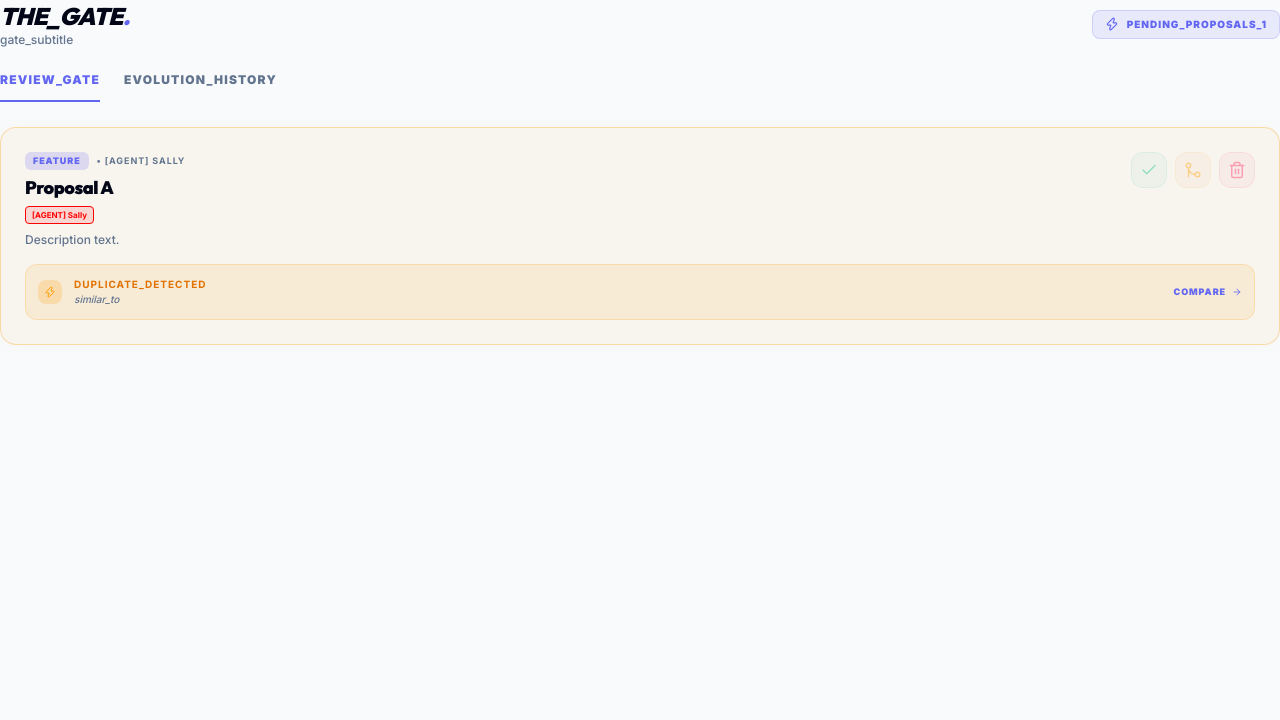
components/gate/TheGate › should handle merge flow with cached proposals
The width and height of the screenshot is (1280, 720).
Click the button named "merge_action" at (1193, 170), box [1175, 152, 1211, 188]
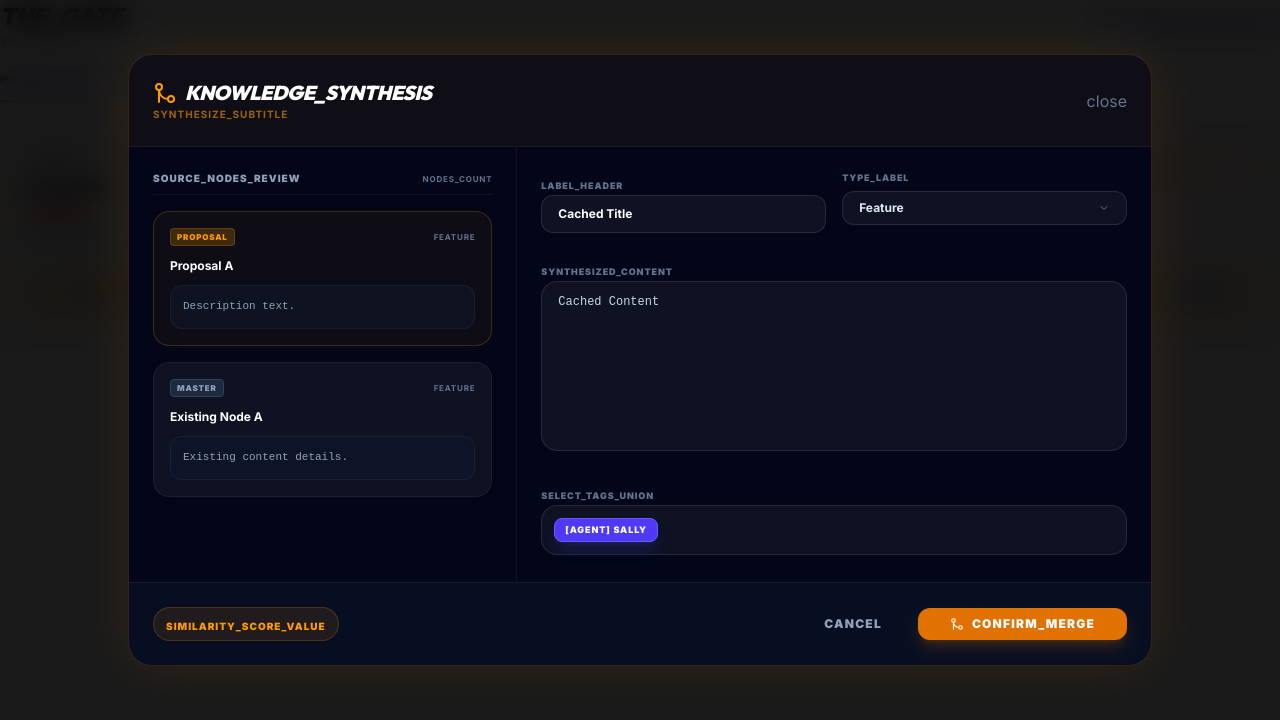
Now the button "confirm_merge" is shown, box [918, 608, 1127, 640]
